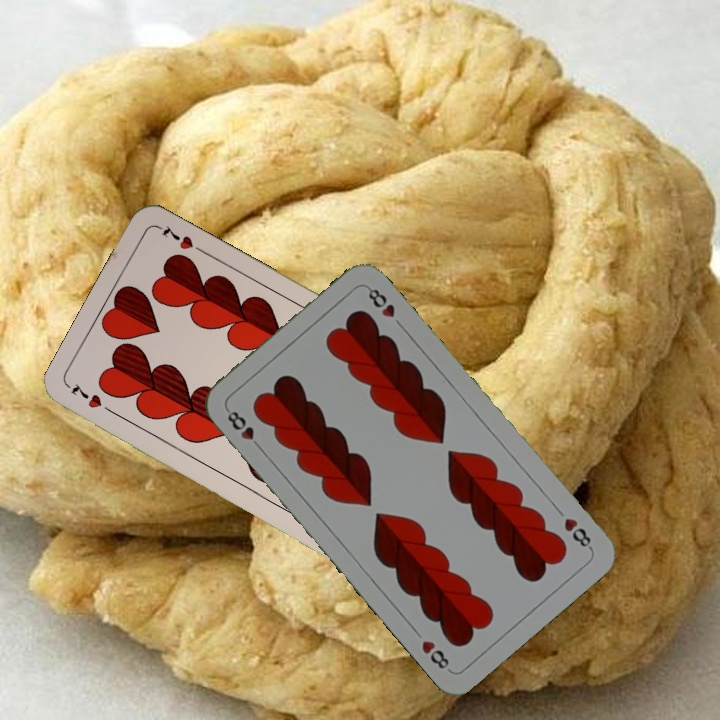H7: (67, 380, 119, 418)
H8: (222, 404, 265, 453), (560, 513, 595, 552)
